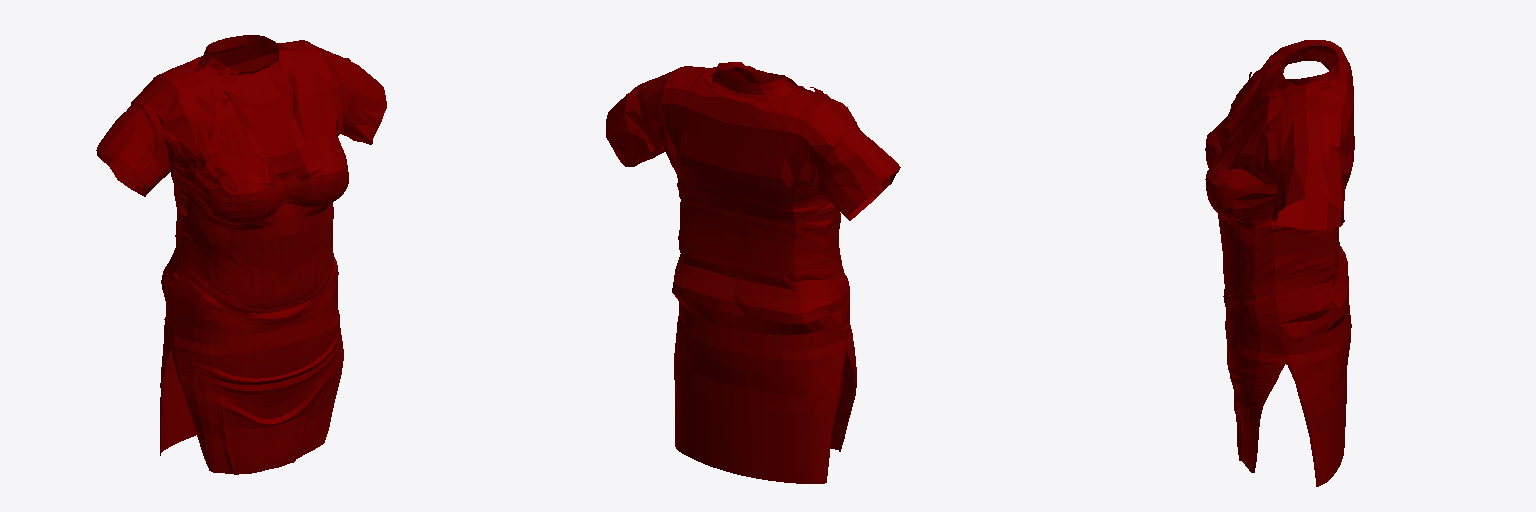
File: cloth01.obj
3 views of the same model, side by side, from view 1: azimuth 30°, elevation 25°; view 2: azimuth 150°, elevation 25°; view 3: azimuth 270°, elevation 25° (orthographic).
Parts seen in each view (by area): view 1: girl polySurface8 polySurface1; view 2: girl polySurface8 polySurface1; view 3: girl polySurface8 polySurface1.
Part boxes in pixels (x1,y1,x2,y2): girl polySurface8 polySurface1: (96,35,386,474); girl polySurface8 polySurface1: (606,62,900,483); girl polySurface8 polySurface1: (1205,40,1354,486).
Size of the model in its own units: 0.2763 by 0.3709 by 0.1274.